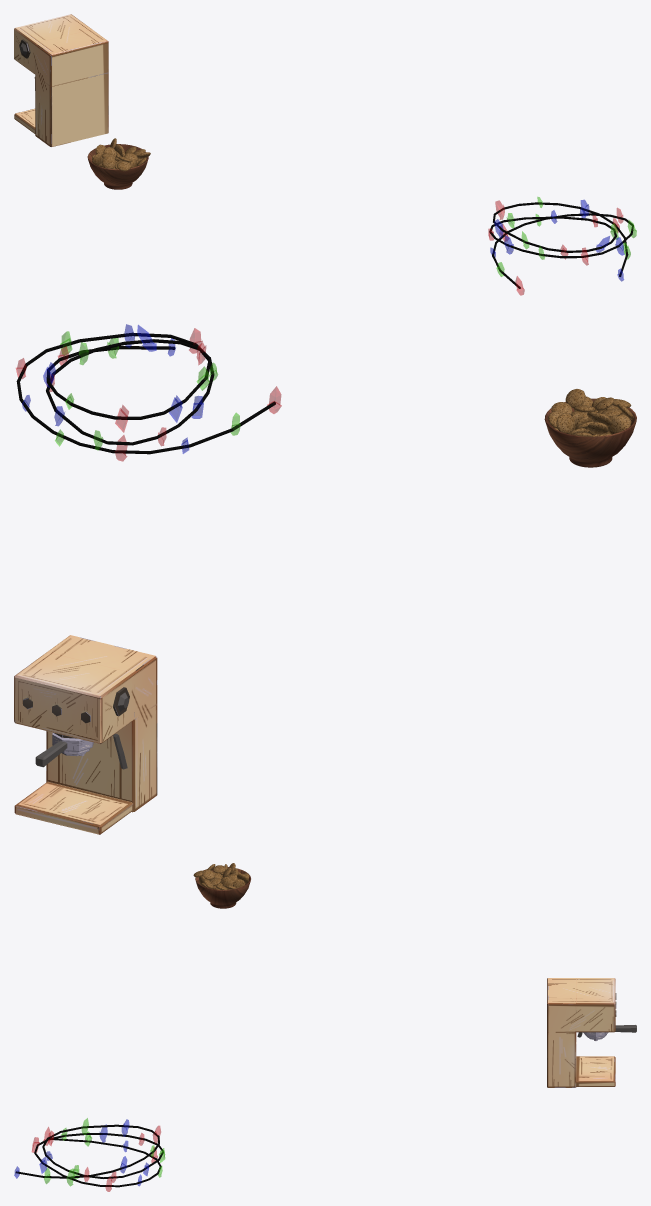
File: гирлянда и тд.glb
3 views of the same model, one above another, from view 1: azimuth 30°, elevation 25°; view 2: azimuth 150°, elevation 25°; view 3: azimuth 270°, elevation 25° (orthographic). The views are drawn at different scales.
Parts seen in each view (by area): view 1: CoffeeMachine1, BézierCurve, node_cookie_low (64)_-93992_72.001, Cube, Cube.001, Cube.002; view 2: CoffeeMachine1, node_cookie_low (64)_-93992_72.001, BézierCurve, Cube, Cube.001, Cube.002; view 3: CoffeeMachine1, BézierCurve, node_cookie_low (64)_-93992_72.001, Cube, Cube.002, Cube.001.
Boxes of the visible parts, x1=… form: CoffeeMachine1: x1=14, y1=14, x2=108, y2=146; BézierCurve: x1=489, y1=202, x2=633, y2=288; node_cookie_low (64)_-93992_72.001: x1=87, y1=138, x2=150, y2=189; Cube: x1=490, y1=199, x2=624, y2=281; Cube.001: x1=488, y1=200, x2=623, y2=295; Cube.002: x1=496, y1=197, x2=636, y2=276; CoffeeMachine1: x1=14, y1=635, x2=157, y2=834; node_cookie_low (64)_-93992_72.001: x1=544, y1=389, x2=636, y2=467; BézierCurve: x1=16, y1=332, x2=275, y2=454; Cube: x1=22, y1=324, x2=203, y2=453; Cube.001: x1=16, y1=328, x2=281, y2=461; Cube.002: x1=55, y1=331, x2=240, y2=450; CoffeeMachine1: x1=547, y1=978, x2=636, y2=1087; BézierCurve: x1=15, y1=1124, x2=163, y2=1187; node_cookie_low (64)_-93992_72.001: x1=193, y1=863, x2=250, y2=908; Cube: x1=14, y1=1119, x2=149, y2=1186; Cube.002: x1=44, y1=1118, x2=165, y2=1186; Cube.001: x1=32, y1=1126, x2=160, y2=1191.
Bounding box in the file's own units: 4.89 × 1.56 × 6.14.
Materials: 8 (3 with a texture image).
